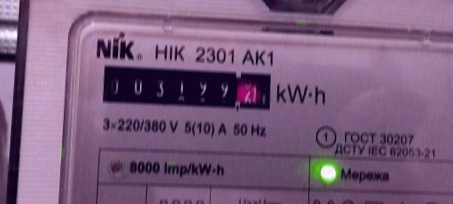0: (129, 74, 141, 94), (106, 74, 116, 92)
1: (173, 74, 183, 93)
3: (151, 76, 162, 96)
6: (239, 87, 250, 101)
9: (194, 75, 206, 95), (216, 78, 227, 97)
screen: (91, 52, 276, 118)
